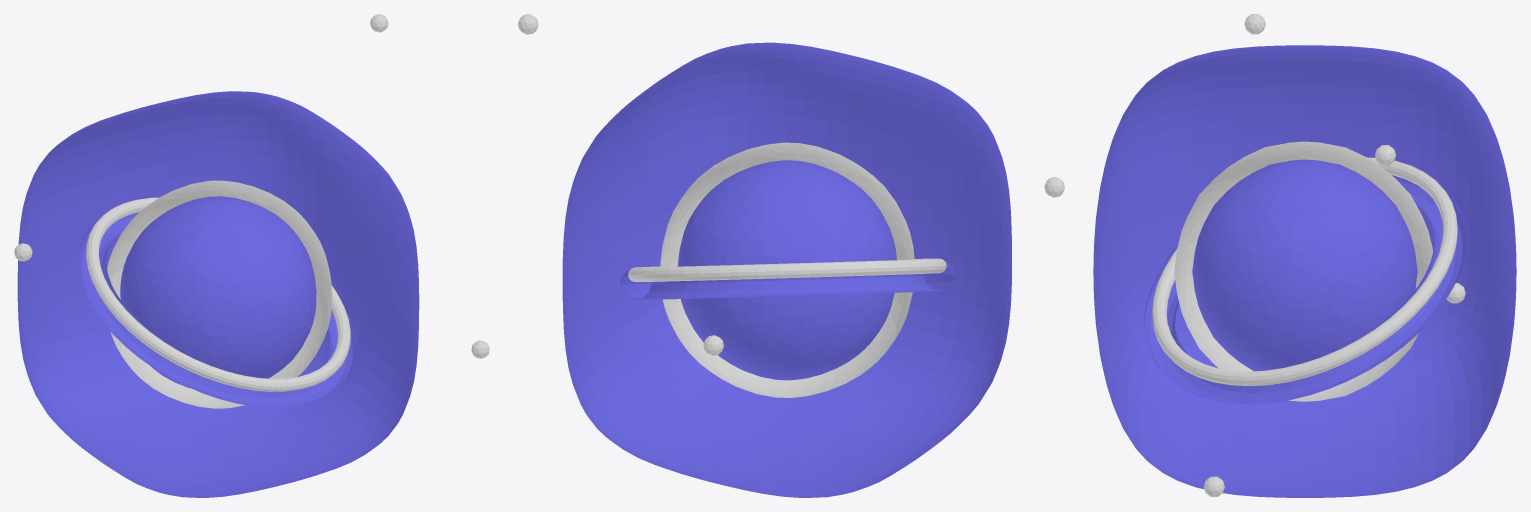
Rendered from si-stars.glb.
The picture shows the model from 3 angles, left to right: view 1: azimuth 30°, elevation 25°; view 2: azimuth 150°, elevation 25°; view 3: azimuth 270°, elevation 25°; orthographic projection. The views are drawn at different scales.
Visible parts, largest first — view 1: Purple_Icosphere, TorusWhole_Torus; view 2: Purple_Icosphere, TorusWhole_Torus; view 3: Purple_Icosphere, TorusWhole_Torus.
Part boxes in pixels (left/top/right/bottom): Purple_Icosphere: left=17, top=91, right=419, bottom=497; TorusWhole_Torus: left=86, top=180, right=350, bottom=408; Purple_Icosphere: left=562, top=42, right=1011, bottom=497; TorusWhole_Torus: left=628, top=142, right=946, bottom=397; Purple_Icosphere: left=1093, top=45, right=1516, bottom=497; TorusWhole_Torus: left=1152, top=141, right=1457, bottom=401.
Bounding box in the file's own units: 2.79 × 2.2 × 1.97.
